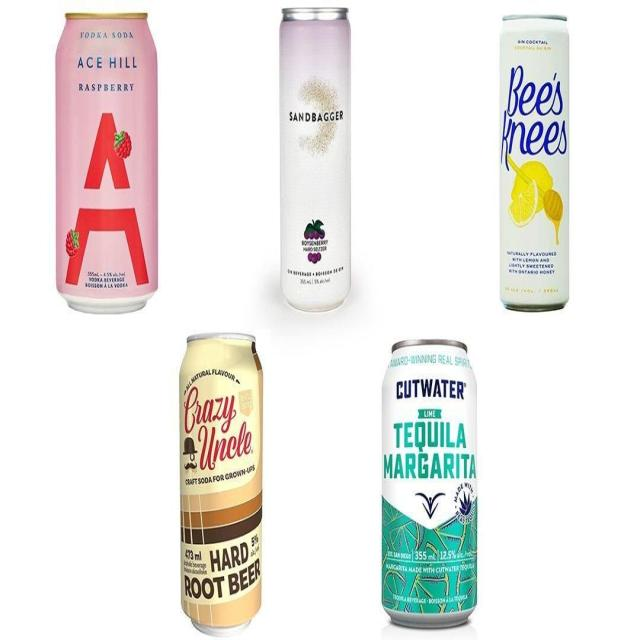Cans: (54, 9, 162, 315), (380, 336, 482, 634), (177, 327, 266, 640), (275, 2, 356, 316), (496, 9, 574, 315)
